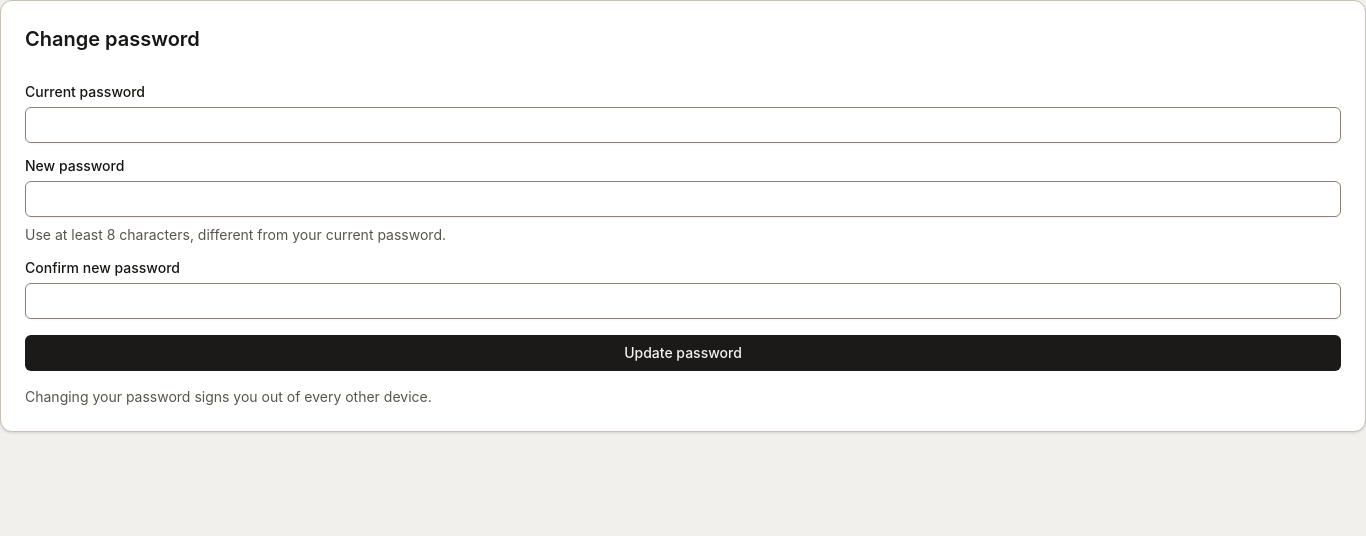
Test: ChangePassword › renders wrong-current-password error inline without leaking; clears password fields
Type "wrongpassword-1" into the password field labelled "Current password" at (683, 125), box left=25, top=107, right=1341, bottom=143
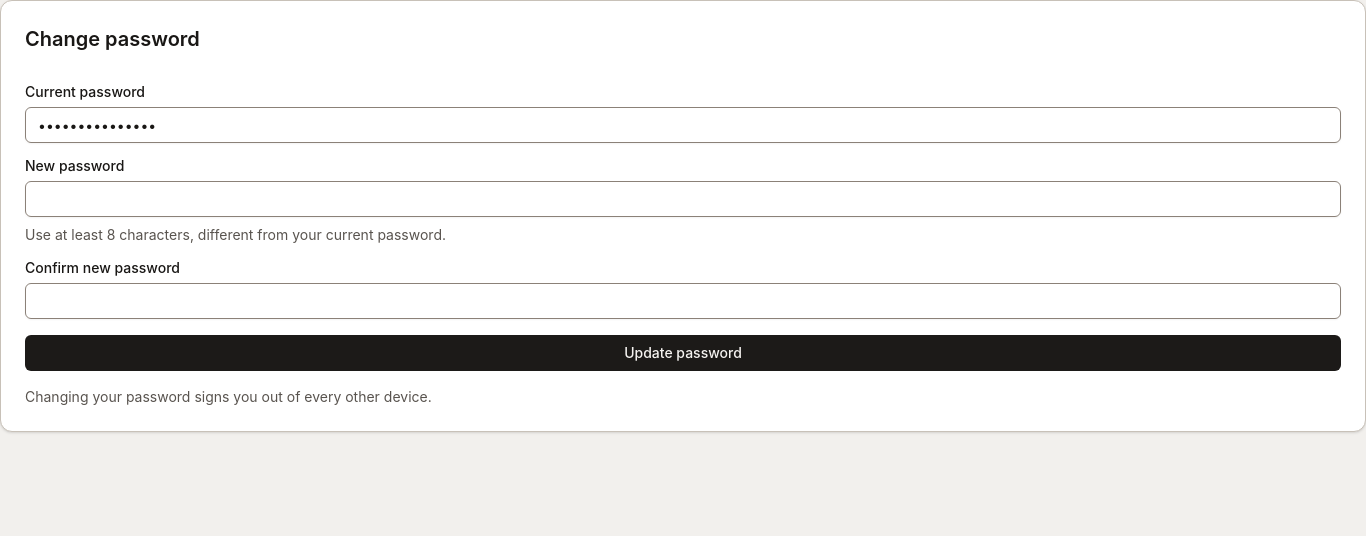
Type "brand-new-pass" into the password field labelled "New password" at (683, 199), box left=25, top=181, right=1341, bottom=217
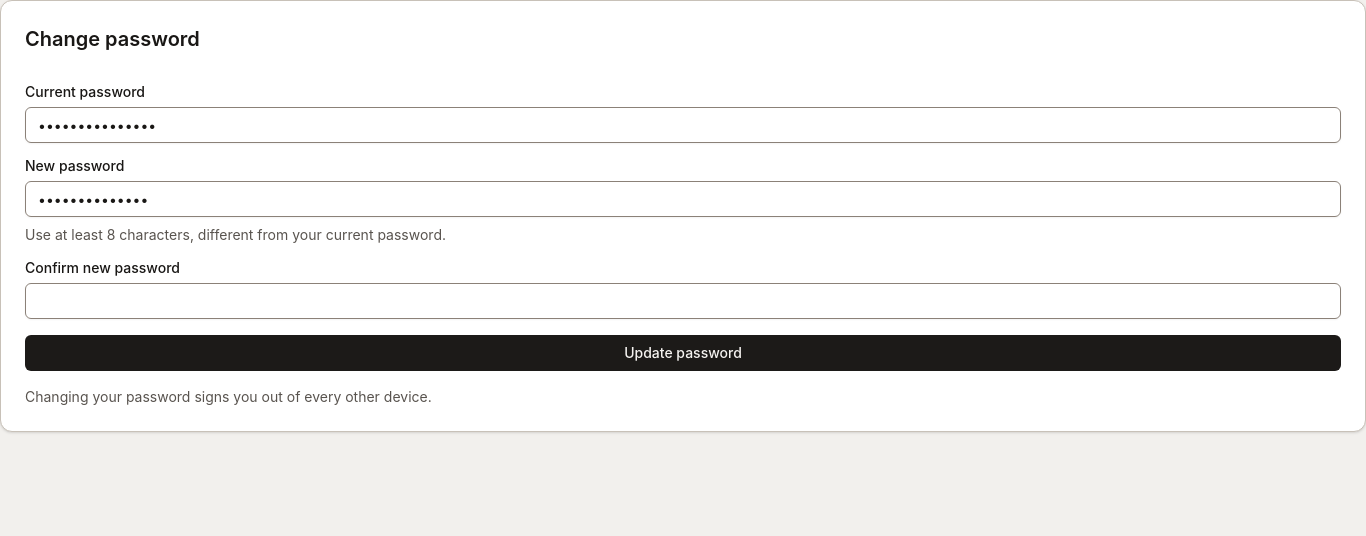
Type "brand-new-pass" into the password field labelled "Confirm new password" at (683, 301), box left=25, top=283, right=1341, bottom=319
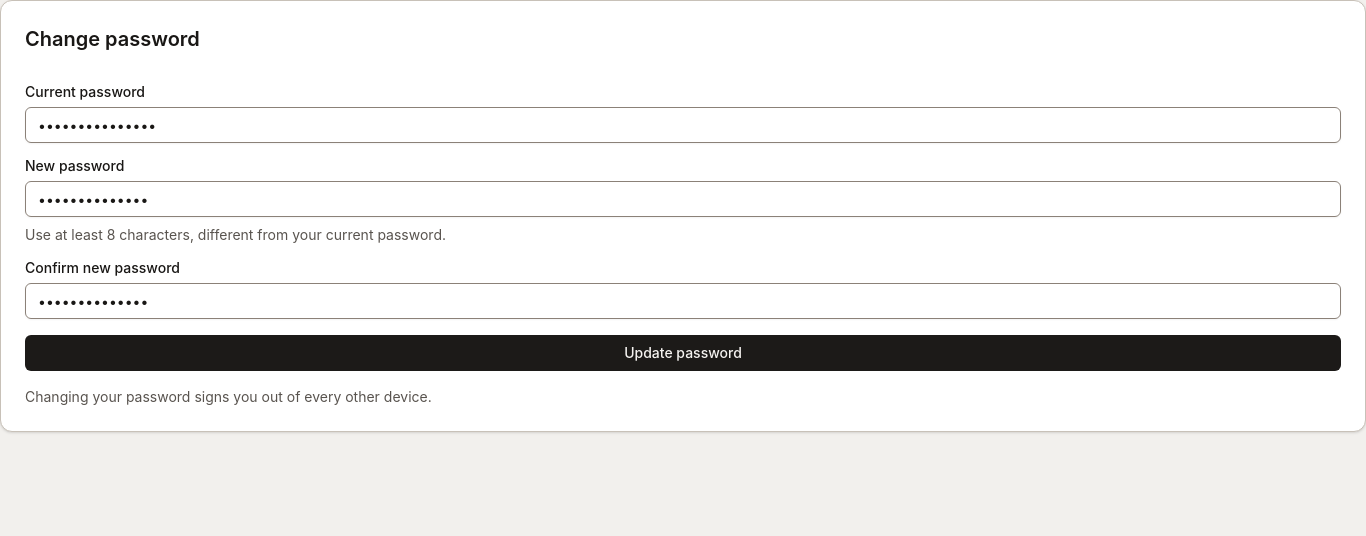
Click the button "Update password" at (683, 353), box left=25, top=335, right=1341, bottom=371
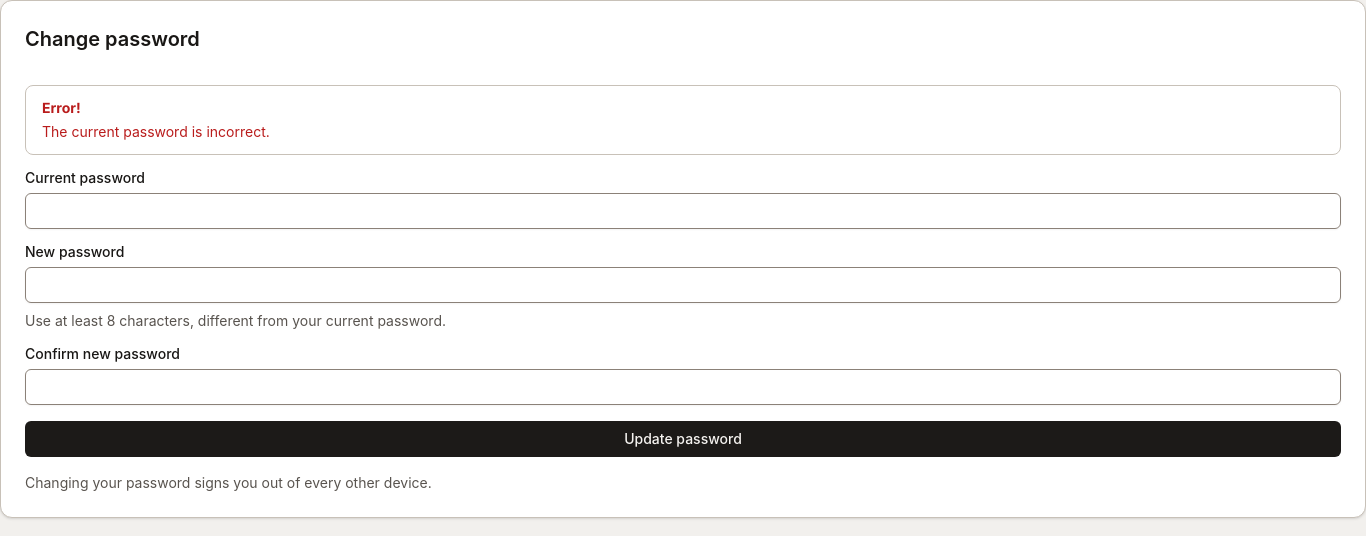
Check: the message shows "The current password is incorrect.", box left=42, top=123, right=270, bottom=140
Check: the password field labelled "Current password" is empty, box left=25, top=193, right=1341, bottom=229
Check: the password field labelled "New password" is empty, box left=25, top=267, right=1341, bottom=303
